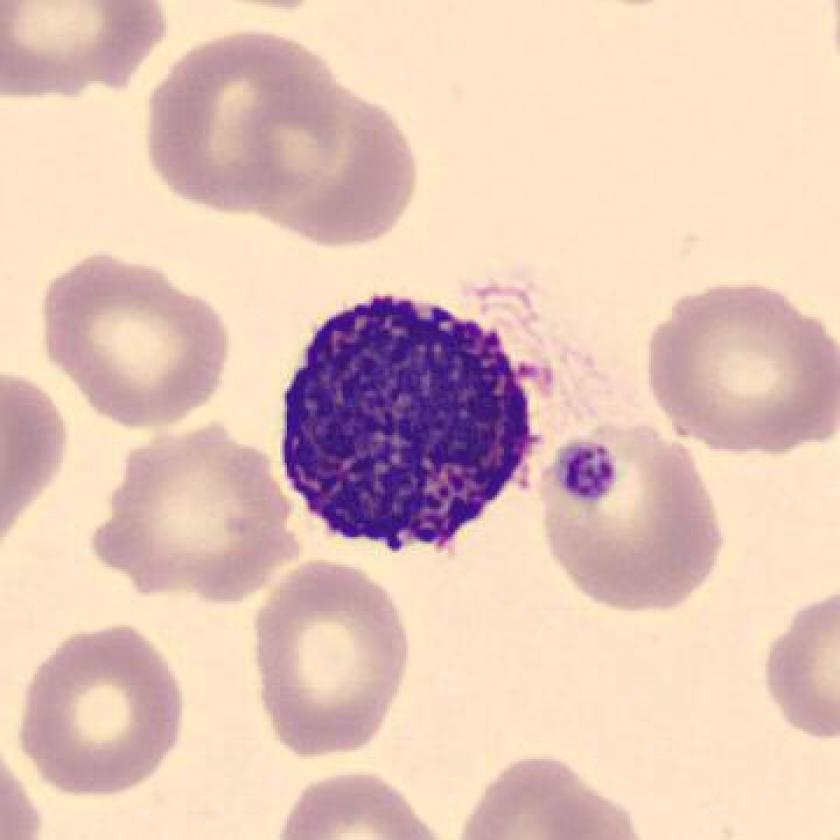basophil: (267, 290, 556, 568)
